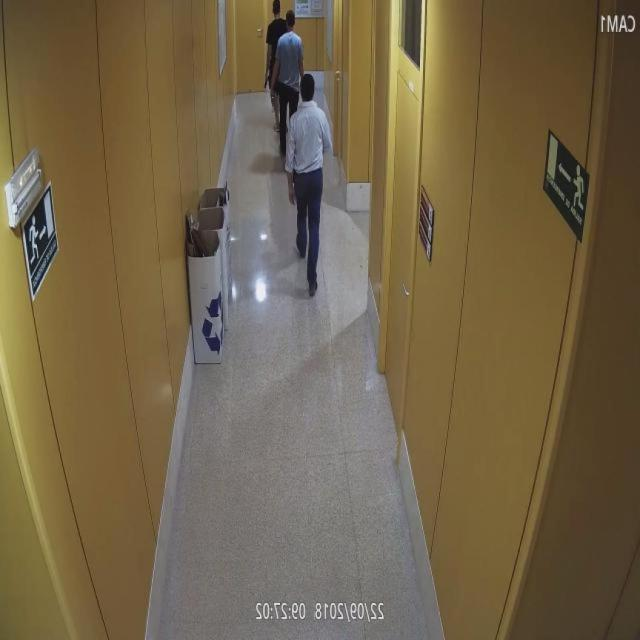pistol: (268, 88, 278, 112), (264, 69, 272, 90)
